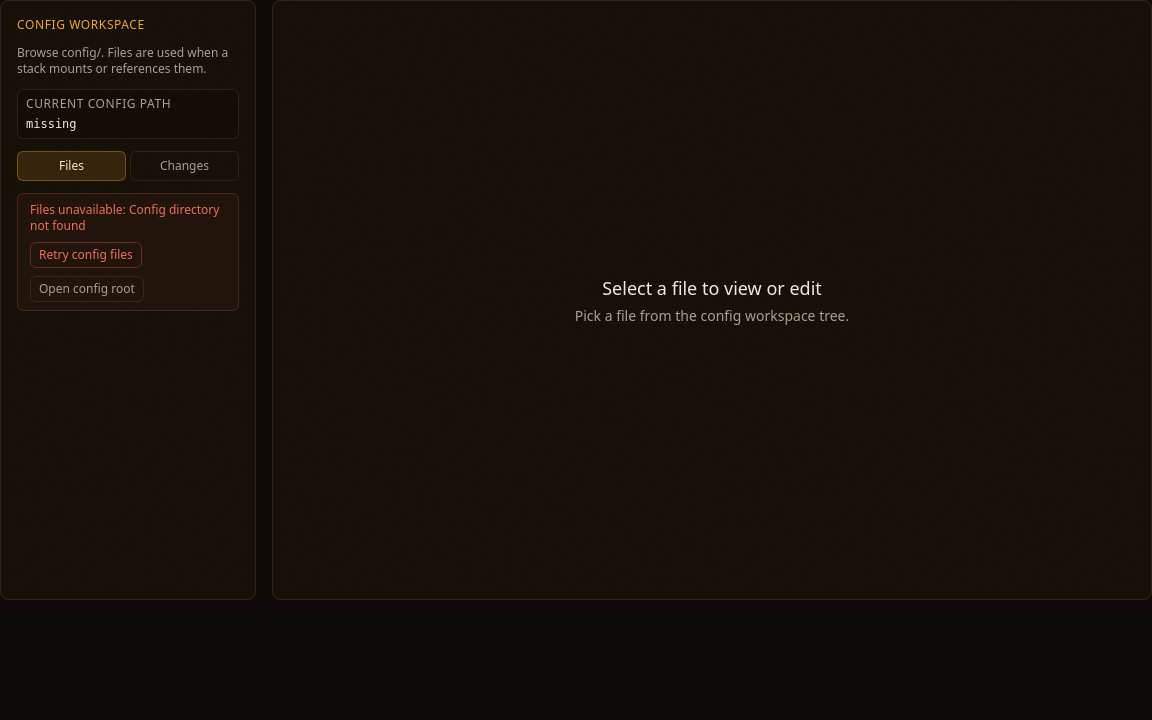
Test: ConfigPage › offers a safe return to the config root for a stale deep link
Expected: the message shows "Files unavailable: Config directory not found", [30, 201, 219, 234]
Click the button "Open config root".
click(87, 289)  # box [30, 276, 144, 302]
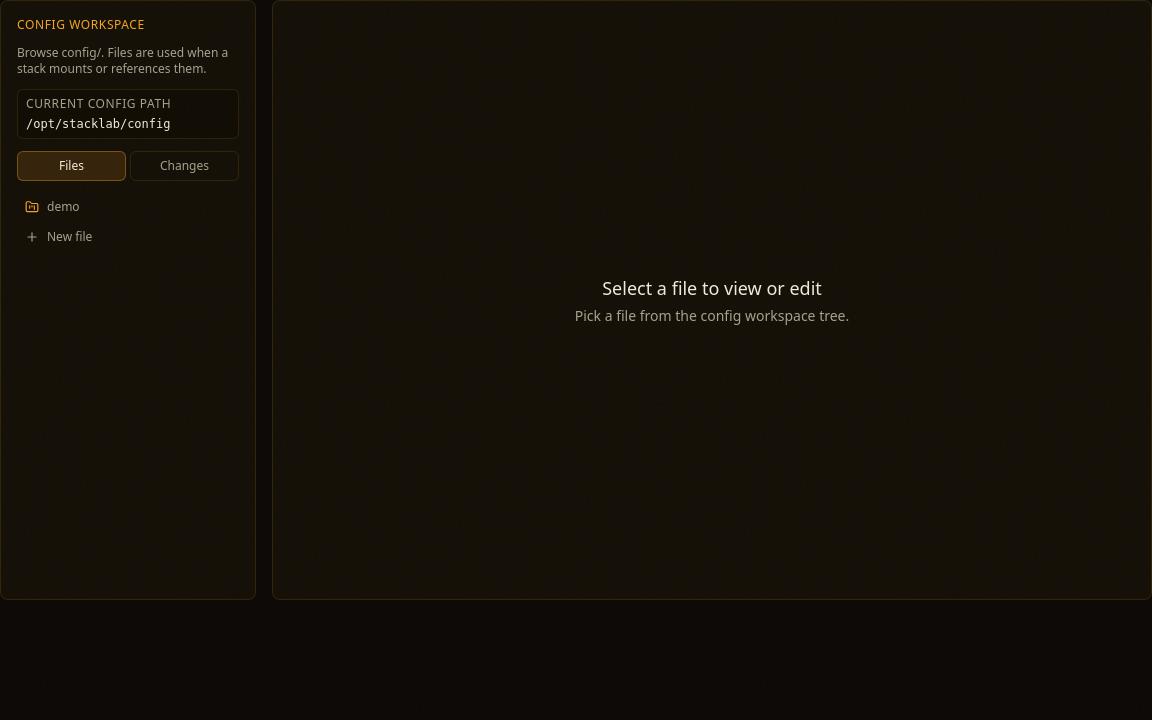
Result: the button "demo" is shown at [17, 193, 239, 221]
